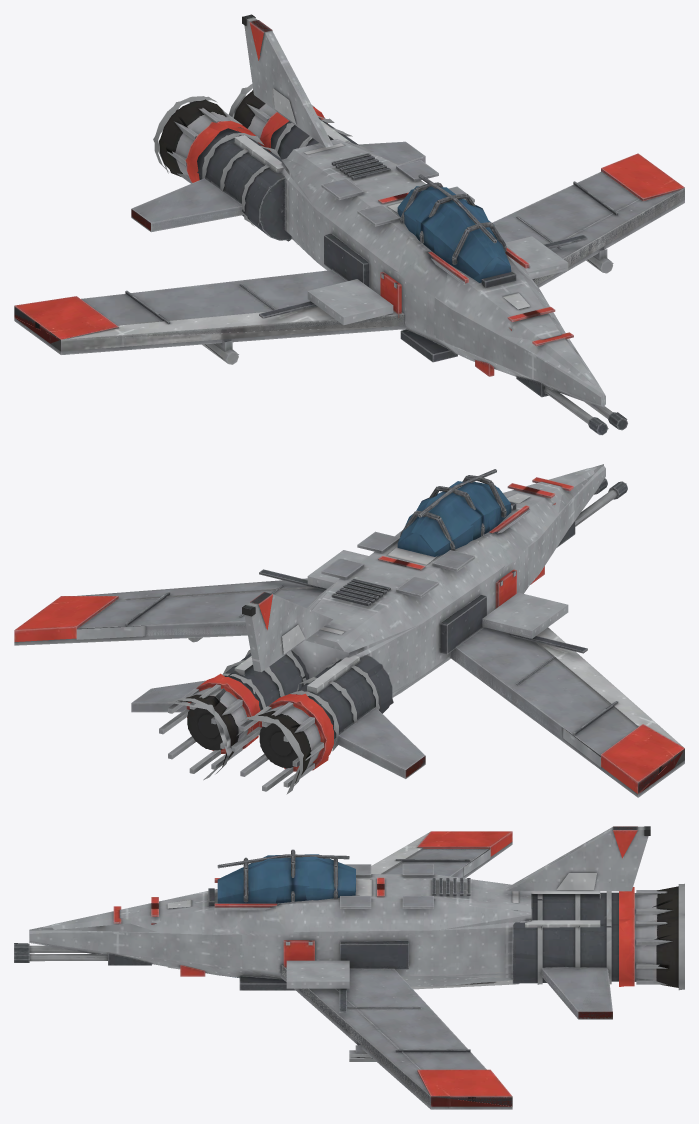
File: sd_ship_sahin.glb
The picture shows the model from 3 angles, top to bottom: view 1: azimuth 30°, elevation 25°; view 2: azimuth 150°, elevation 25°; view 3: azimuth 270°, elevation 25°; orthographic projection. The views are drawn at different scales.
Parts seen in each view (by area): view 1: LOD0_body, LOD1_body; view 2: LOD0_body, LOD1_body; view 3: LOD0_body, LOD1_body.
Boxes of the visible parts, x1,y1,x2,y2 form: LOD0_body: (14, 14, 684, 435); LOD1_body: (14, 19, 684, 434); LOD0_body: (14, 465, 684, 797); LOD1_body: (76, 464, 684, 794); LOD0_body: (14, 826, 684, 1109); LOD1_body: (14, 828, 684, 1106).
Size of the model in its own units: 0.9352 by 0.2565 by 1.
Materials: 1 (1 with a texture image).
